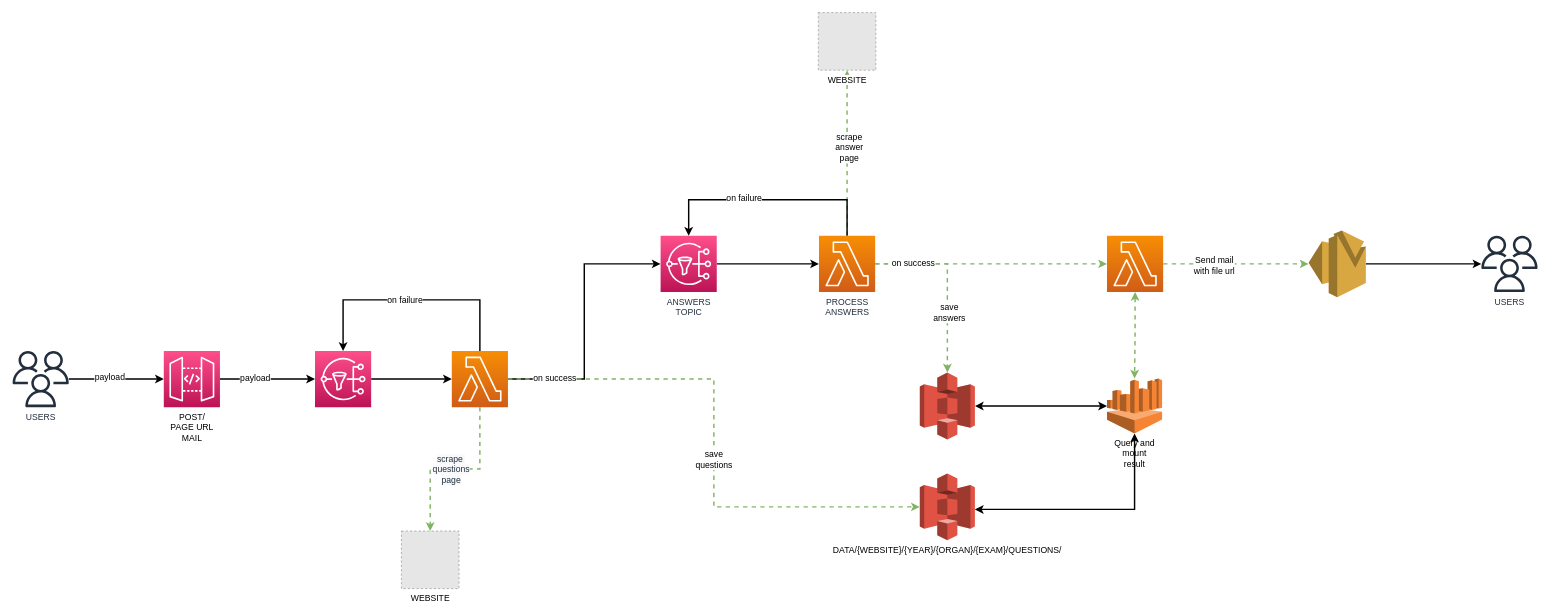
The diagram is 1549 pixels wide and 616 high, and some of its shapes have lost their labels. Grey dashed boxes stand in for pictures. The shapes that lost their labels are listed below. From the top down, each one's box as (x1, y1, x2, y2) in pixels, then its label:
(1106, 235, 1163, 292): SEND MAIL
(314, 350, 371, 407): QUESTIONS TOPIC
(451, 350, 508, 407): PROCESS QUESTIONS
(919, 372, 975, 440): DATA/{WEBSITE}/{YEAR}/{ORGAN}/{EXAM}/ANSWERS/
